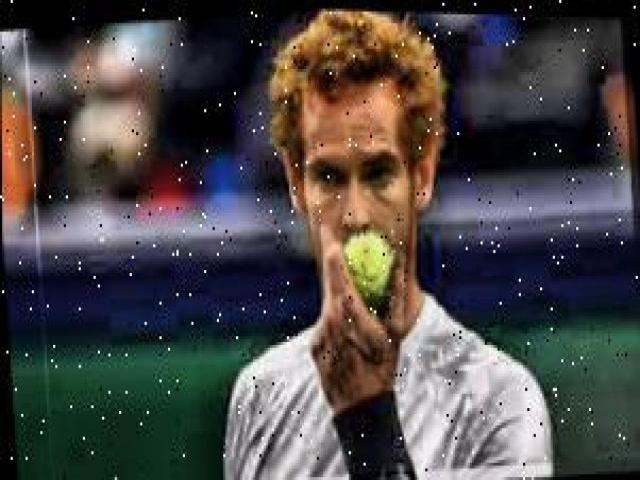tennis-ball: (344, 229, 396, 305)
